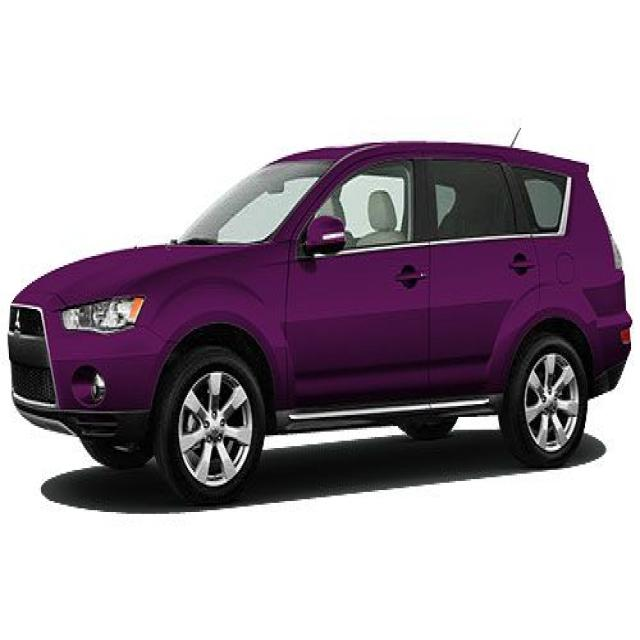light_vehicle: (5, 141, 634, 506)
